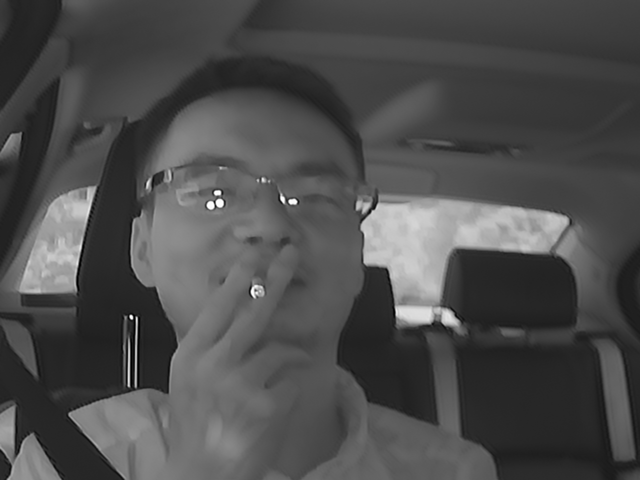hand: (174, 250, 325, 426)
